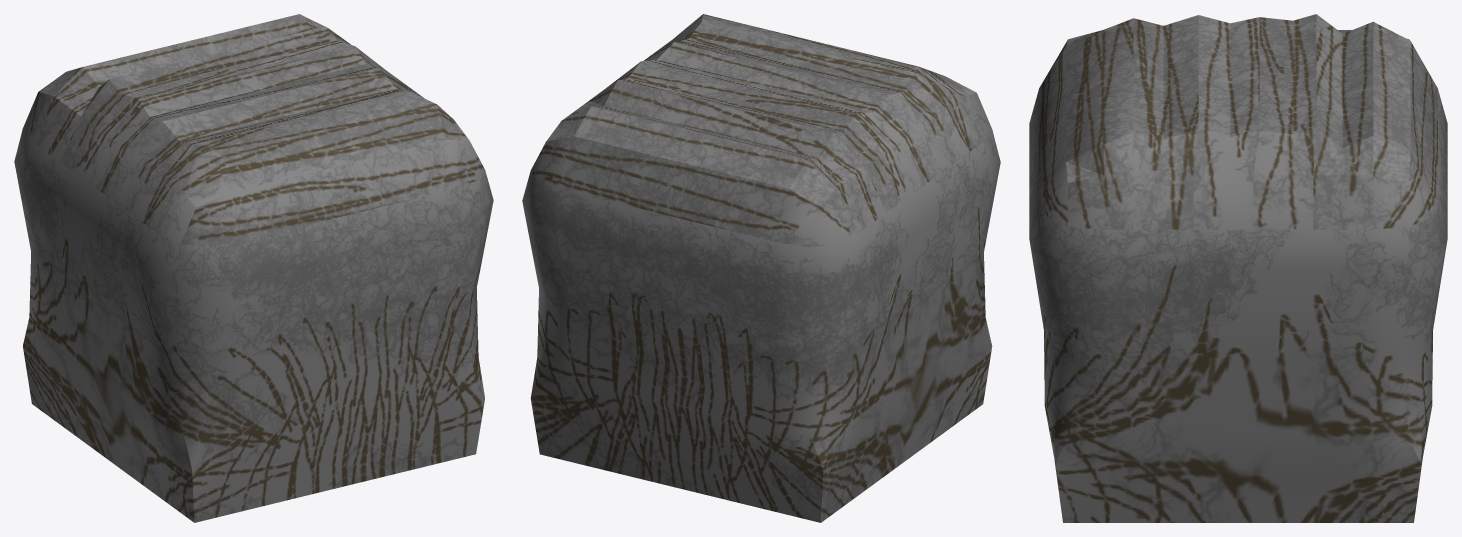
File: blockSlowGravel.obj
3 views of the same model, side by side, from view 1: azimuth 30°, elevation 25°; view 2: azimuth 150°, elevation 25°; view 3: azimuth 270°, elevation 25° (orthographic). The views are drawn at different scales.
Parts seen in each view (by area): view 1: blockMud; view 2: blockMud; view 3: blockMud.
Part boxes in pixels (bbox=[...]): blockMud: bbox=[14, 14, 493, 522]; blockMud: bbox=[522, 14, 1000, 522]; blockMud: bbox=[1029, 14, 1447, 522].
Bounding box in the file's own units: 1.08 × 1.07 × 1.08.
1 material, 1 textured.
